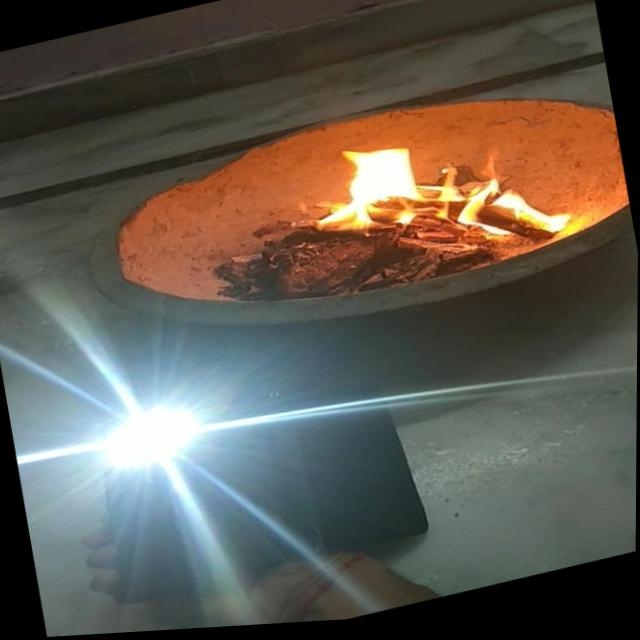fire: (293, 95, 580, 302)
